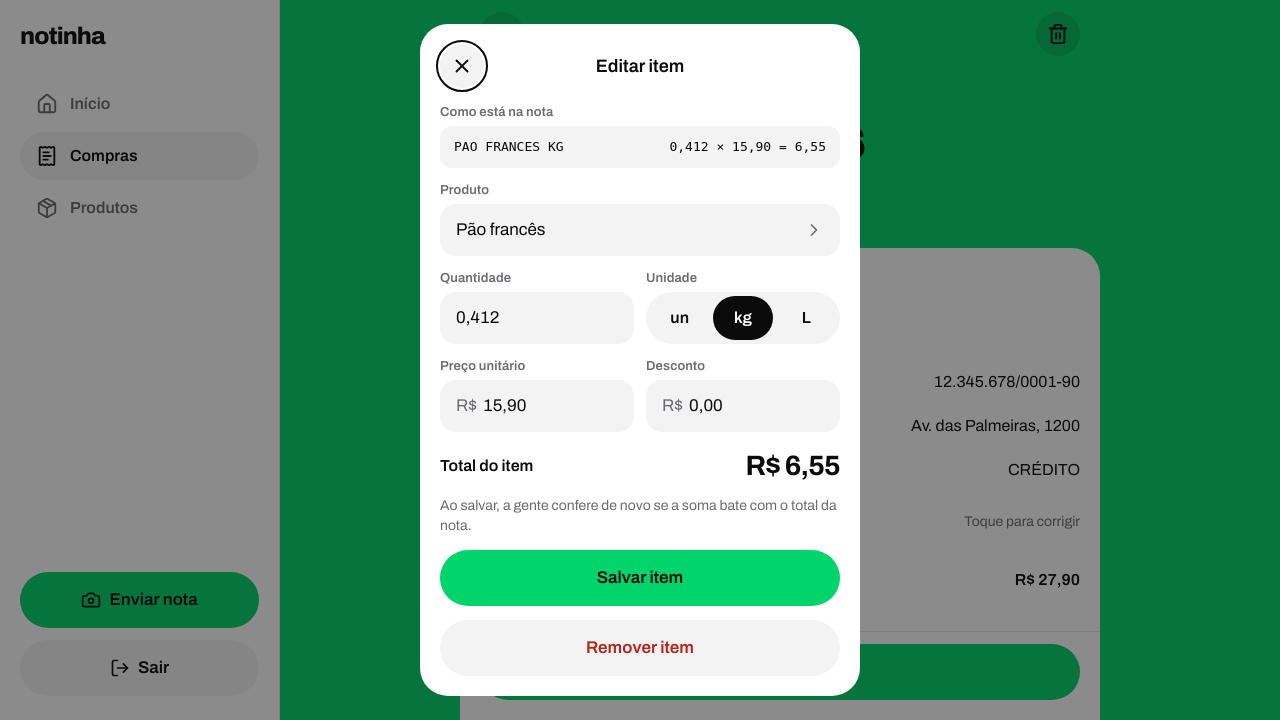
it: correcting items › a failed save keeps the sheet open with the error
The width and height of the screenshot is (1280, 720).
Click the button "Salvar item". click: (640, 578)
box: [440,550,840,606]
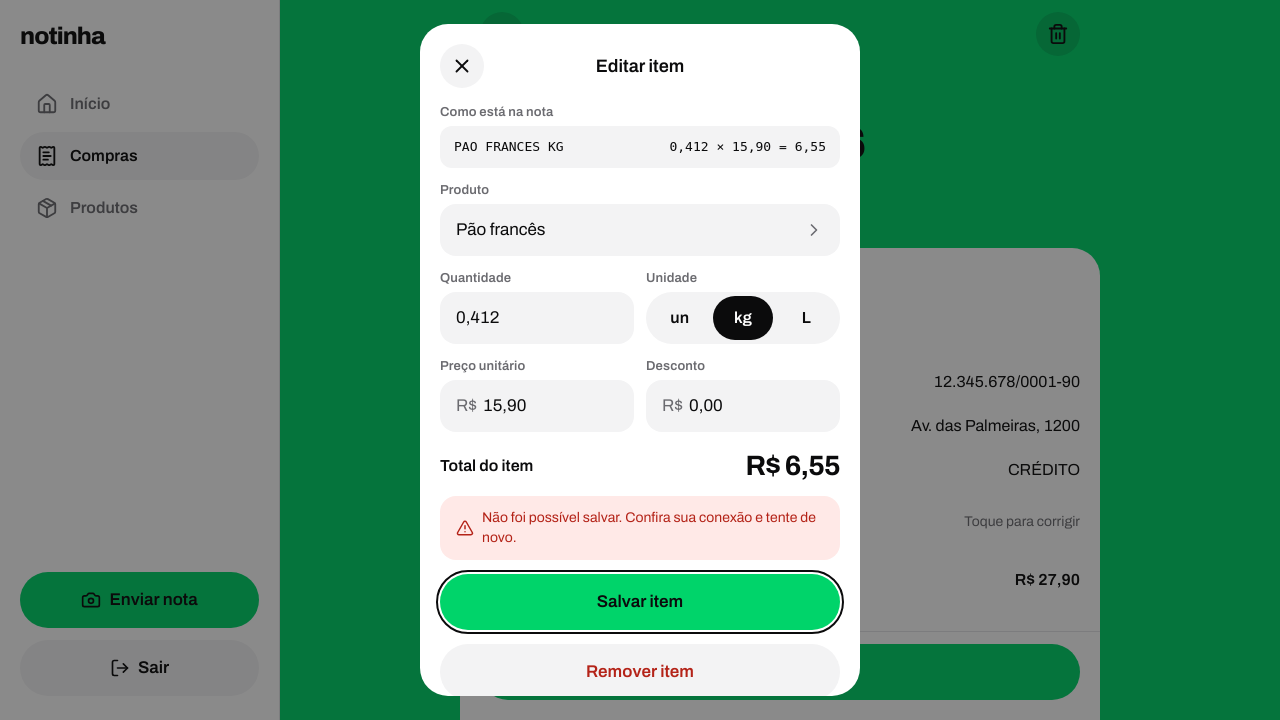
Expected: the dialog "Editar item" is shown, [420,24,860,696]
Result: the message shows "Não foi possível salvar" at [482,510,816,545]
